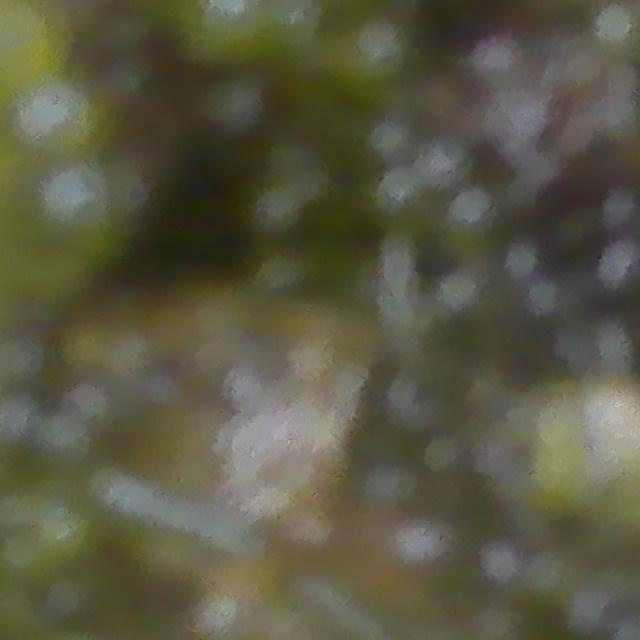SeaGrape: (335, 16, 414, 91), (39, 163, 114, 237), (196, 71, 268, 141), (193, 0, 273, 61)
